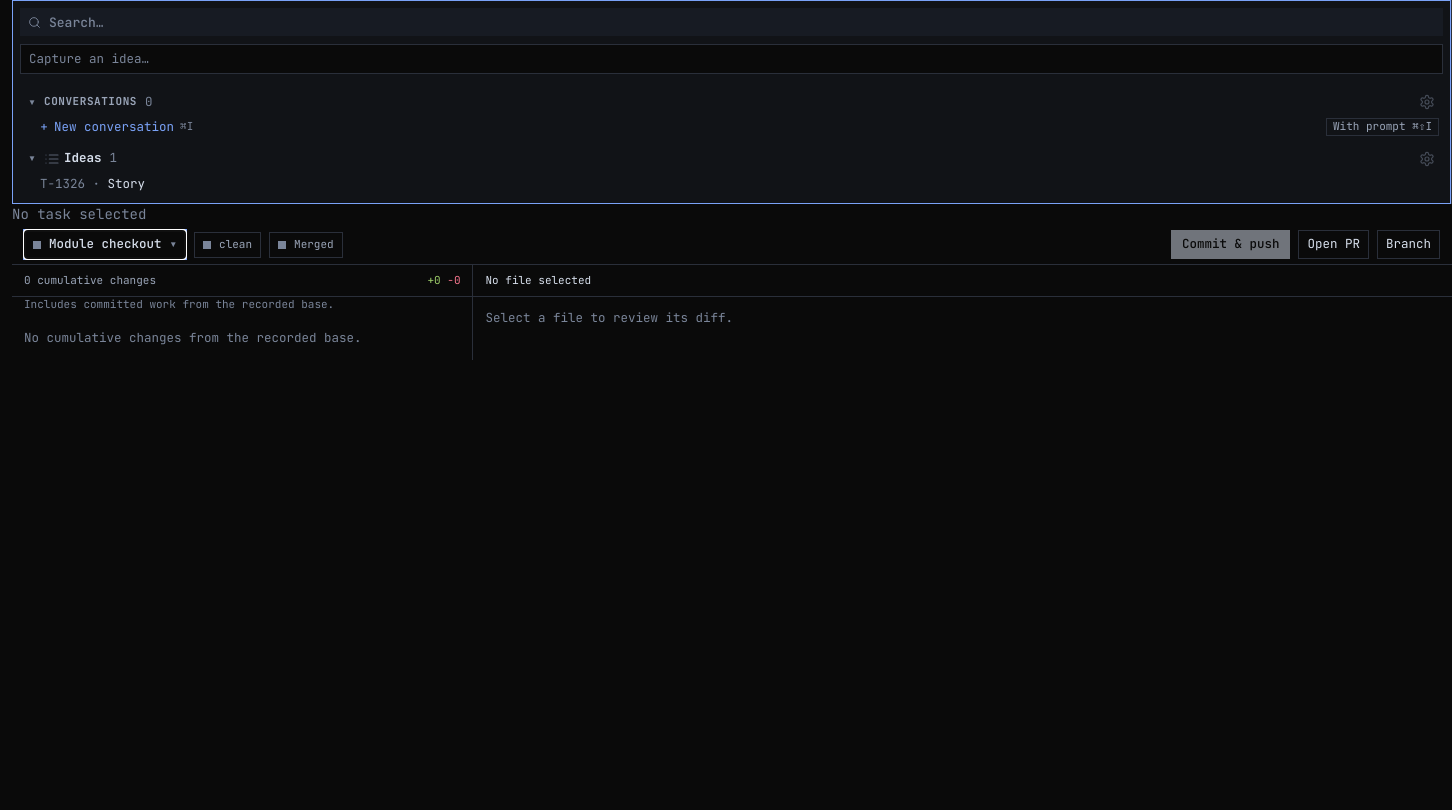
Test case: overhaul acceptance - merged worktree cleanup › [overhaul-200] explains cleanup blocker pull_request_unavailable without offering removal
Click the button "Branch". click: click(1408, 245)
box: [1377, 230, 1440, 259]
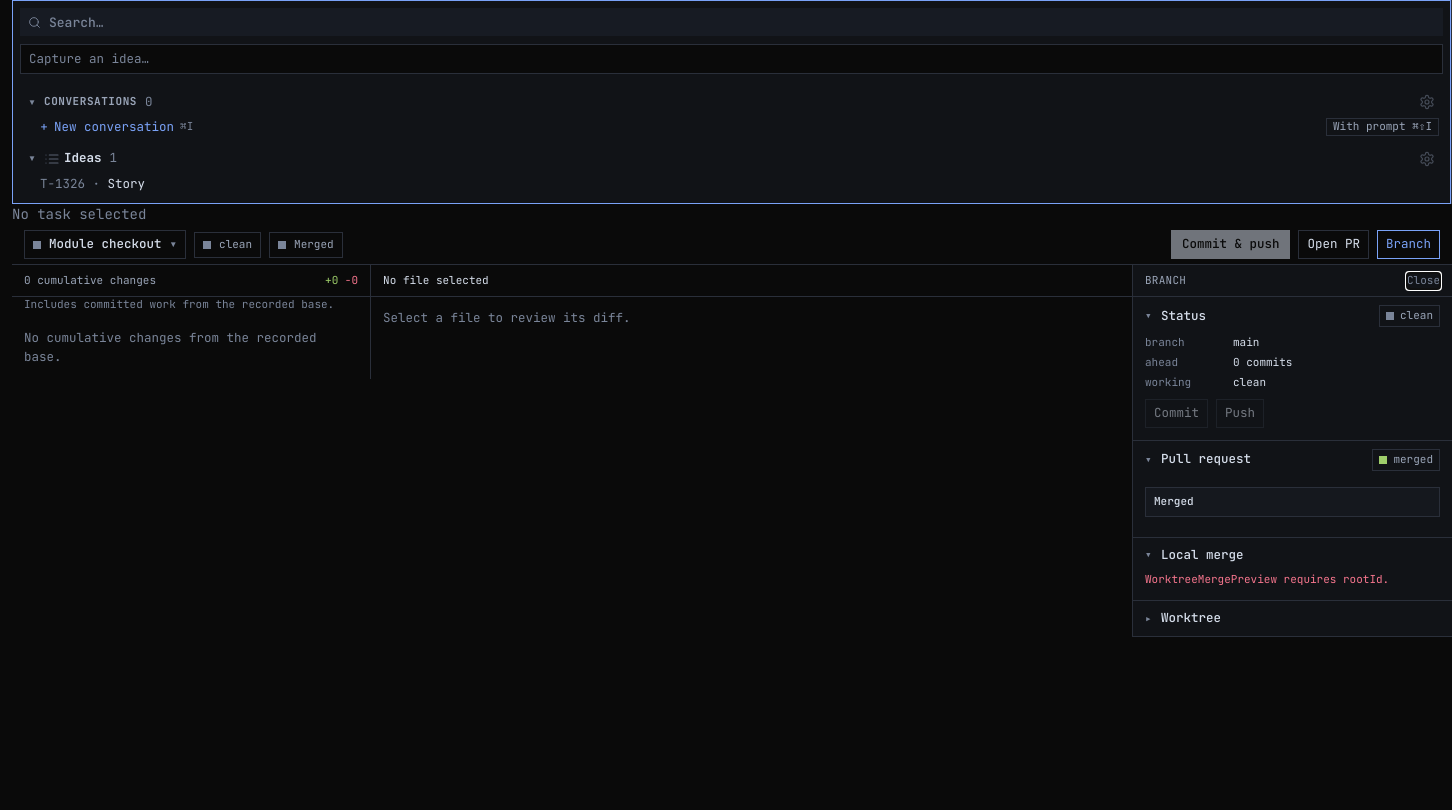
Expected: the element with test id "changes-branch-inspector" is shown, [1132, 265, 1451, 637]
Click the heading "▸ Worktree". click: click(1183, 618)
box: [1145, 609, 1221, 626]
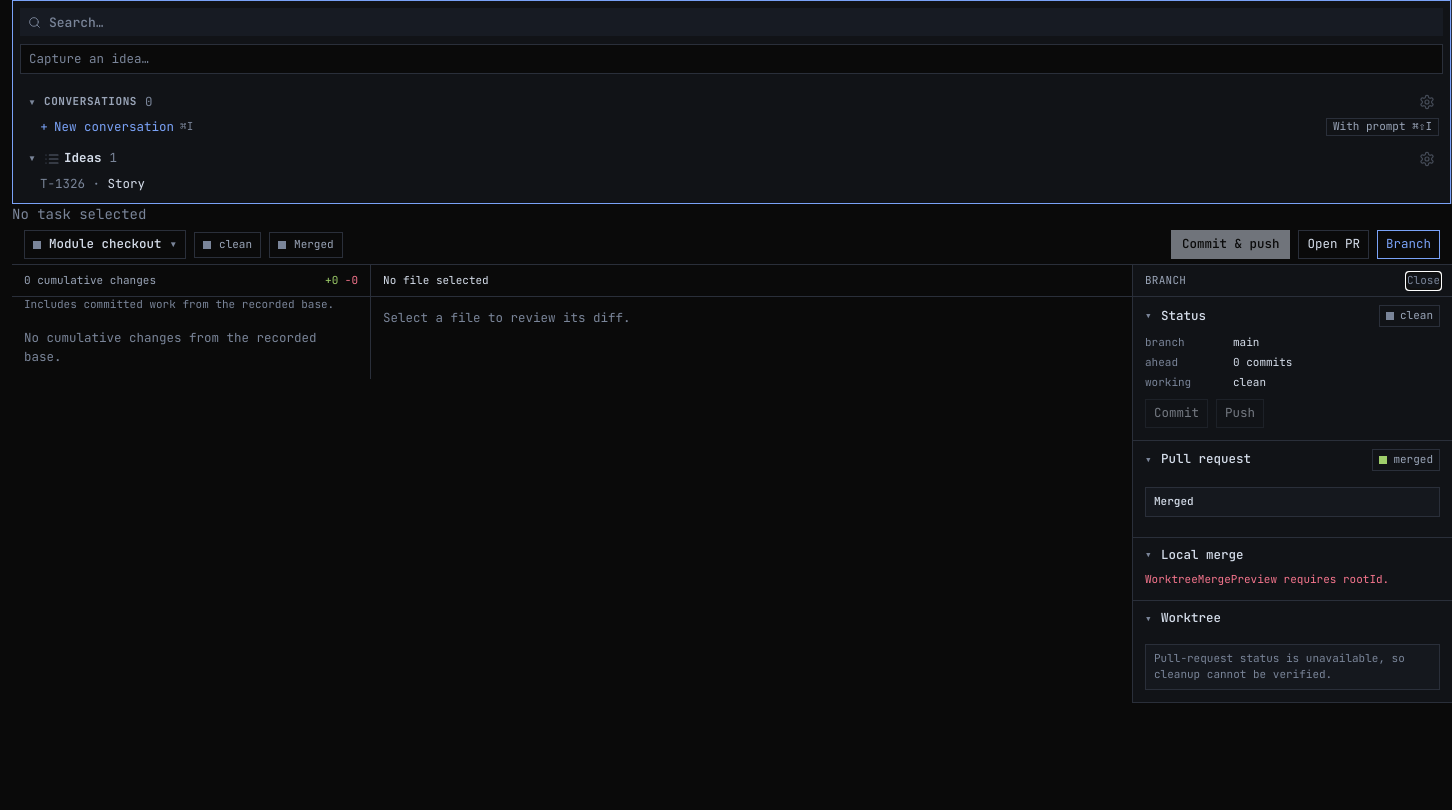
Expected: the text named "Worktree cleanup status" reads "Pull-request status is unavailable, so cleanup cannot be verified.", [1154, 651, 1405, 681]
